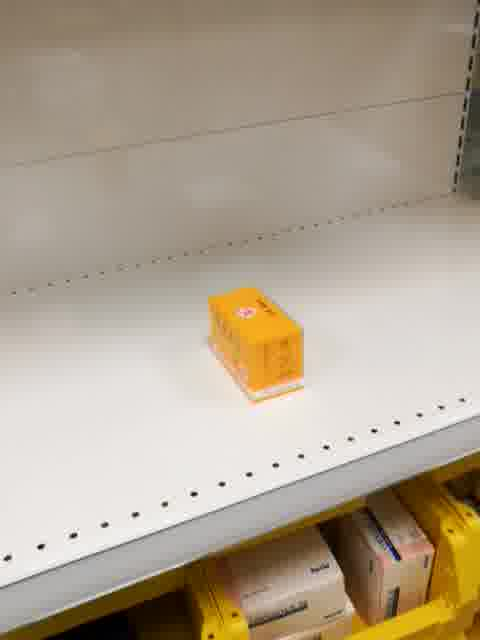jasminetea: (205, 284, 306, 404)
